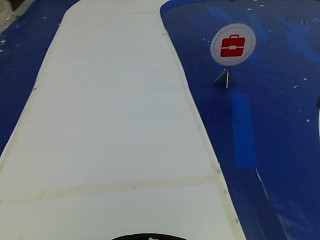company: (209, 23, 256, 66)
